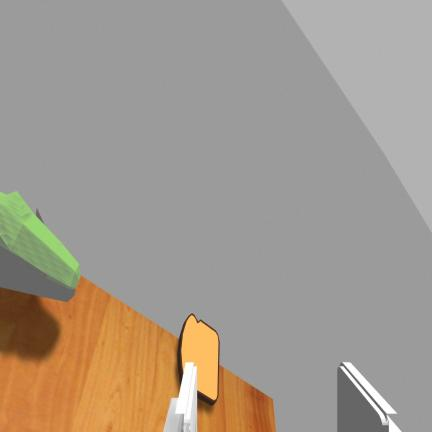lettuce: (0, 191, 80, 301)
sliced_bread: (178, 314, 219, 404)
